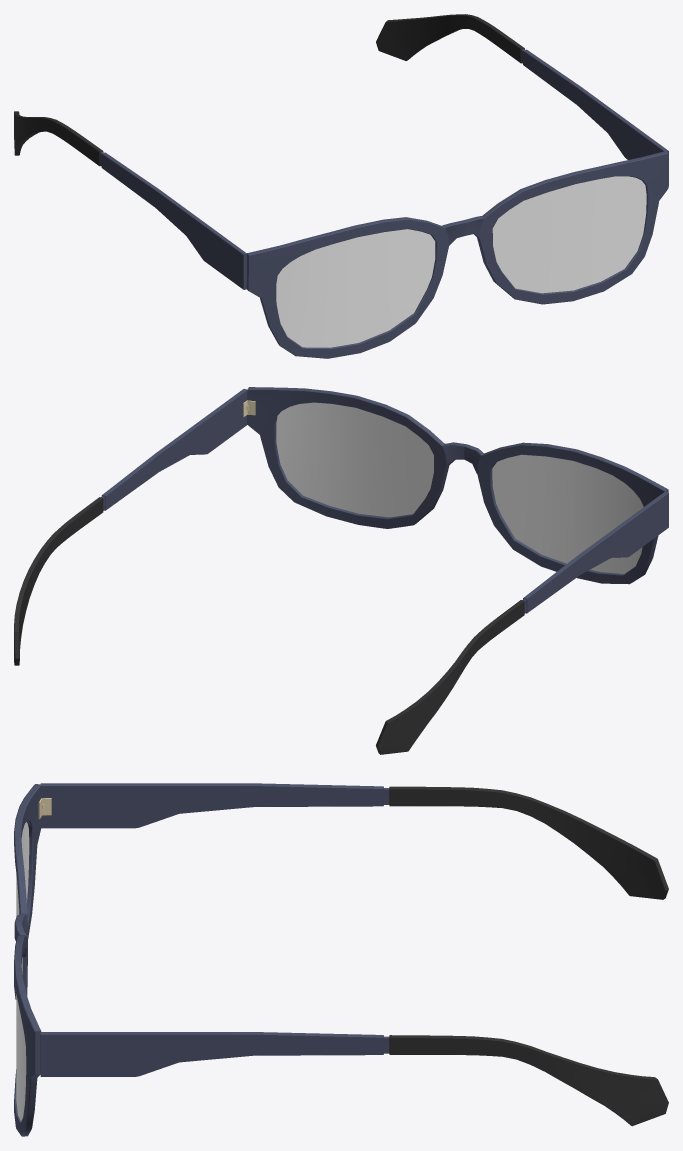
File: glassesType1.fbx
3 views of the same model, one above another, from view 1: azimuth 30°, elevation 25°; view 2: azimuth 150°, elevation 25°; view 3: azimuth 270°, elevation 25° (orthographic). The views are drawn at different scales.
Visible parts, largest first — view 1: polySurface10, polySurface11, polySurface12, polySurface9, polySurface17; view 2: polySurface12, polySurface11, polySurface10, polySurface17, polySurface9; view 3: polySurface17, polySurface9, polySurface11, polySurface12, polySurface10.
Boxes of the visible parts, box(x1,y1,x2,y2) form: polySurface10: box(276, 229, 435, 347); polySurface11: box(246, 151, 668, 358); polySurface12: box(492, 176, 646, 293); polySurface9: box(376, 14, 668, 185); polySurface17: box(14, 111, 246, 289); polySurface12: box(276, 402, 433, 517); polySurface11: box(247, 387, 668, 584); polySurface10: box(492, 454, 643, 573); polySurface17: box(376, 491, 668, 754); polySurface9: box(14, 389, 247, 665); polySurface17: box(40, 783, 668, 899); polySurface9: box(40, 1032, 668, 1126); polySurface11: box(14, 784, 41, 1136); polySurface12: box(16, 957, 26, 1121); polySurface10: box(16, 822, 29, 916).
Bounding box in the file's own units: 6.95 × 1.98 × 7.66.
